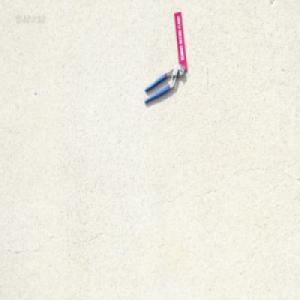Label: (172, 10, 187, 71)
Pliers: (143, 61, 185, 104)
